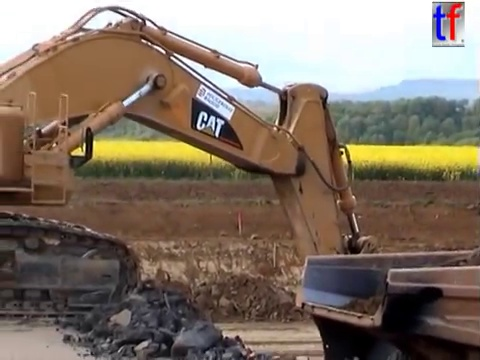excavator: (1, 3, 407, 360)
truck: (290, 244, 480, 360)
